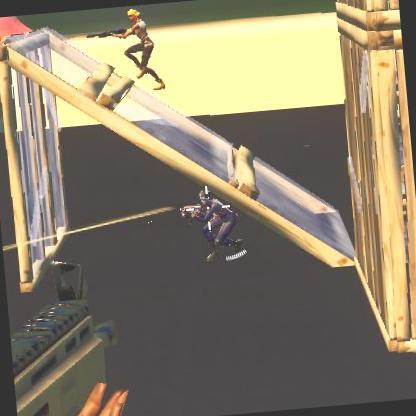person: (110, 6, 160, 90), (190, 188, 239, 250), (198, 200, 240, 250)
